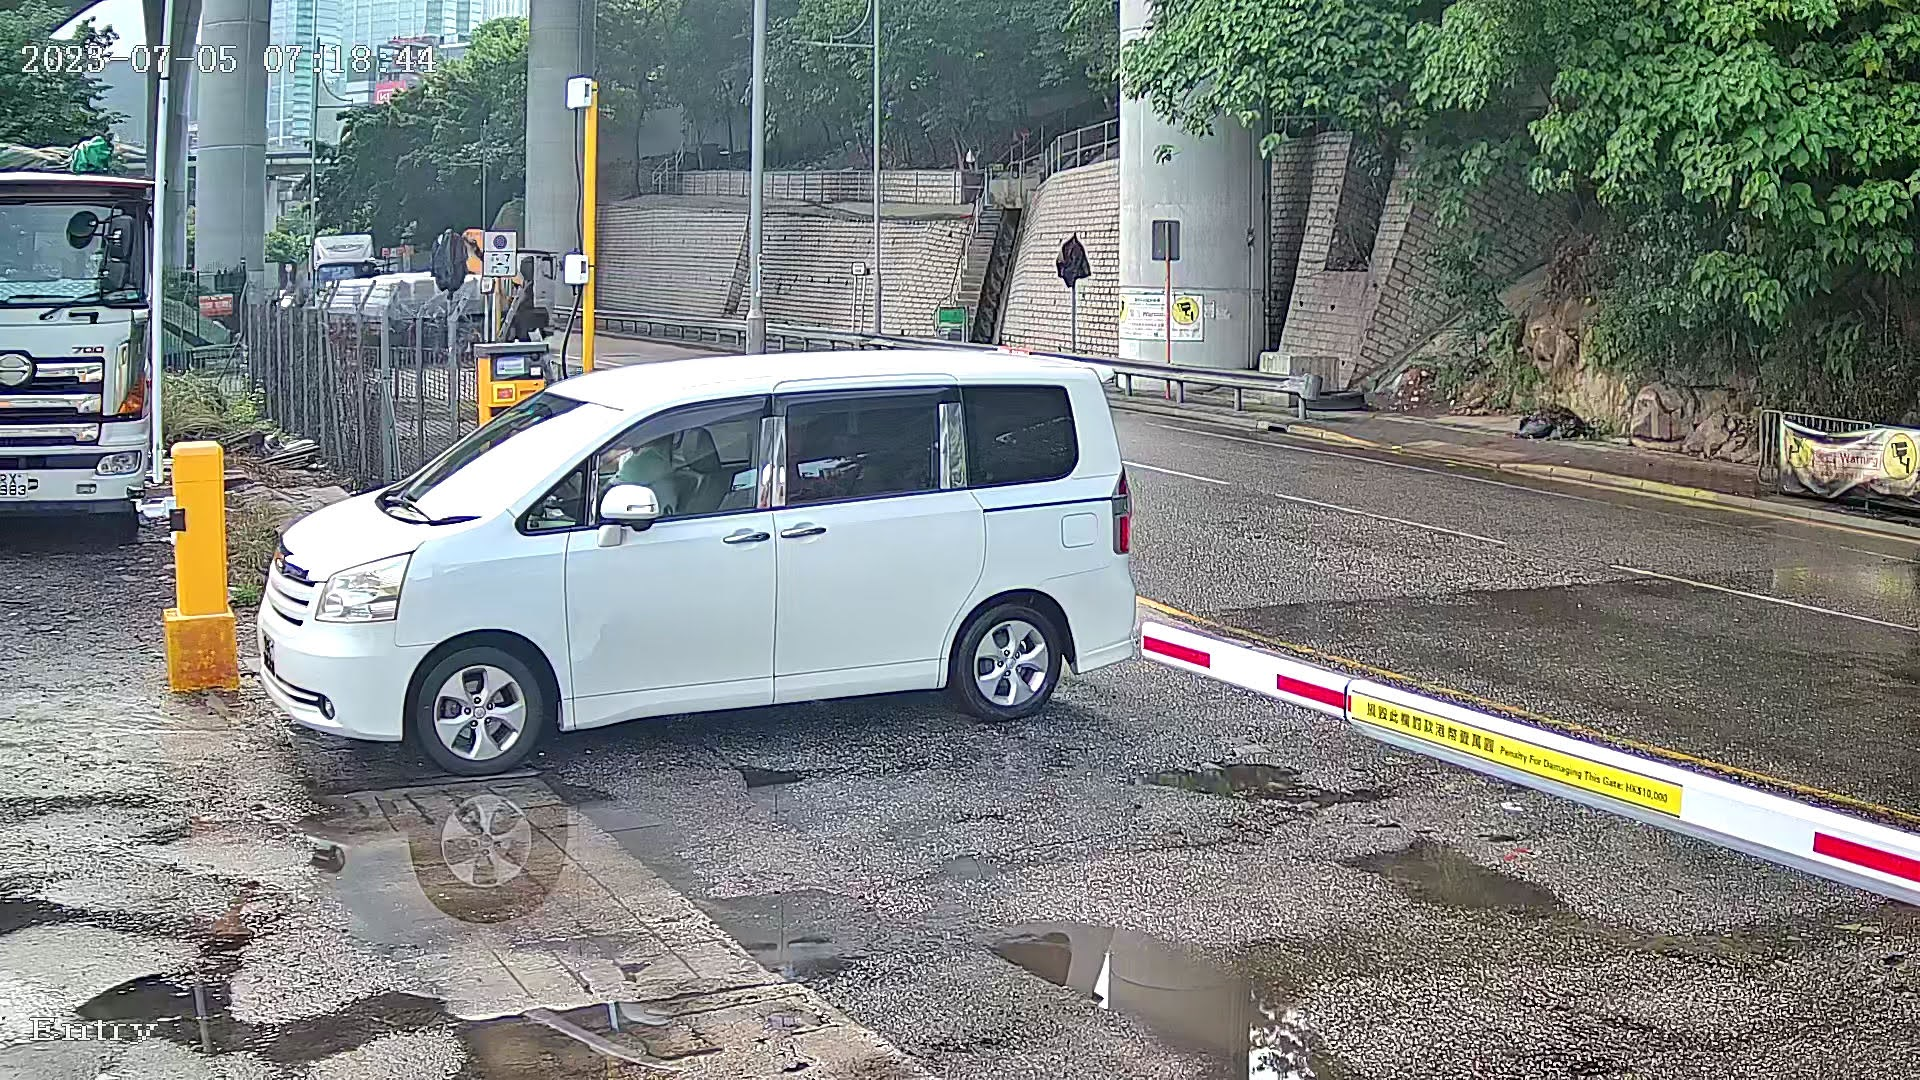privatecar: (208, 318, 1212, 799)
